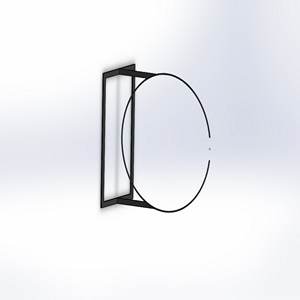circle: (99, 62, 214, 213)
